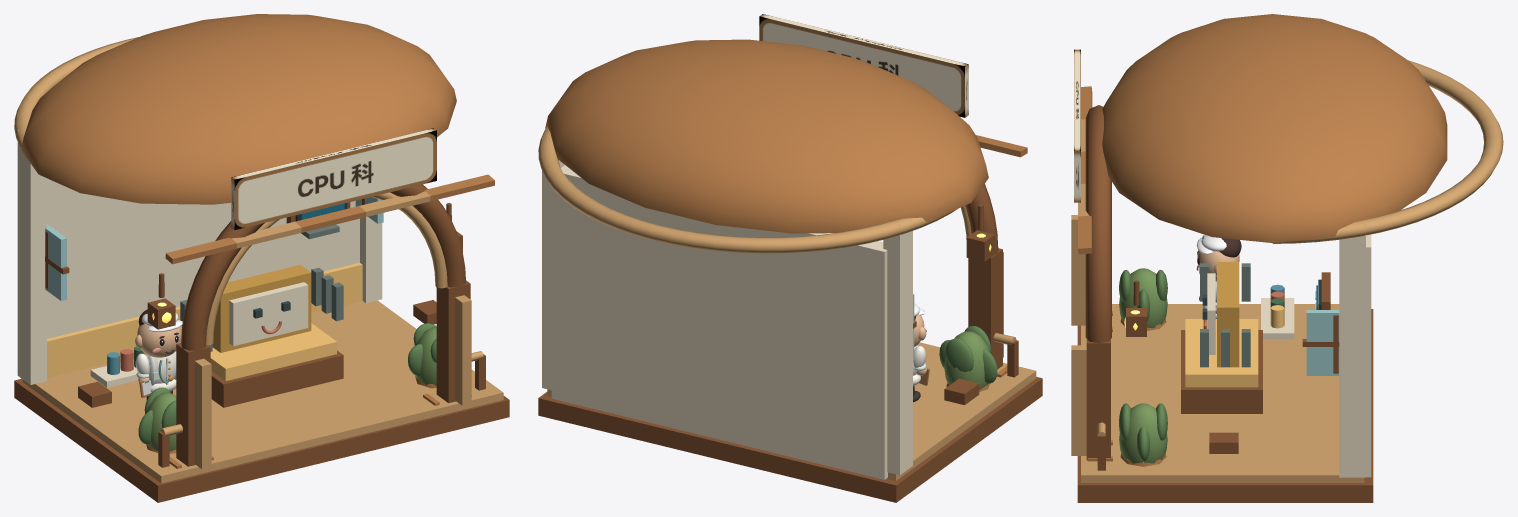
The model's file is cpu.glb.
3 views of the same model, side by side, from view 1: azimuth 30°, elevation 25°; view 2: azimuth 150°, elevation 25°; view 3: azimuth 270°, elevation 25° (orthographic). The views are drawn at different scales.
Visible parts, largest first — view 1: static batch geometry (×8), static batch platform, sign-CPU 科, cpu clinic, large-head; view 2: static batch geometry (×5), static batch platform, sign-CPU 科; view 3: static batch geometry (×8), static batch platform, cpu clinic, sign-CPU 科.
Boxes of the visible parts, x1=… form: static batch geometry (×8): x1=14, y1=14, x2=503, y2=483; static batch platform: x1=14, y1=184, x2=509, y2=502; sign-CPU 科: x1=231, y1=128, x2=436, y2=229; cpu clinic: x1=107, y1=203, x2=347, y2=374; large-head: x1=137, y1=324, x2=181, y2=357; static batch geometry (×5): x1=538, y1=39, x2=1036, y2=480; static batch platform: x1=538, y1=184, x2=1042, y2=502; sign-CPU 科: x1=759, y1=14, x2=968, y2=117; static batch geometry (×8): x1=1071, y1=14, x2=1503, y2=482; static batch platform: x1=1077, y1=105, x2=1373, y2=502; cpu clinic: x1=1217, y1=262, x2=1321, y2=367; sign-CPU 科: x1=1074, y1=49, x2=1080, y2=202.
Bounding box in the file's own units: 6.84 × 5.62 × 6.21.
Materials: 32 (1 with a texture image).
